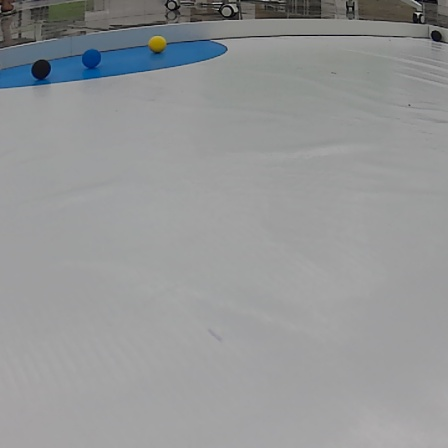black: (28, 60, 52, 80)
blue: (78, 46, 101, 72)
blue_base: (0, 40, 228, 87)
yellow: (149, 33, 168, 54)
